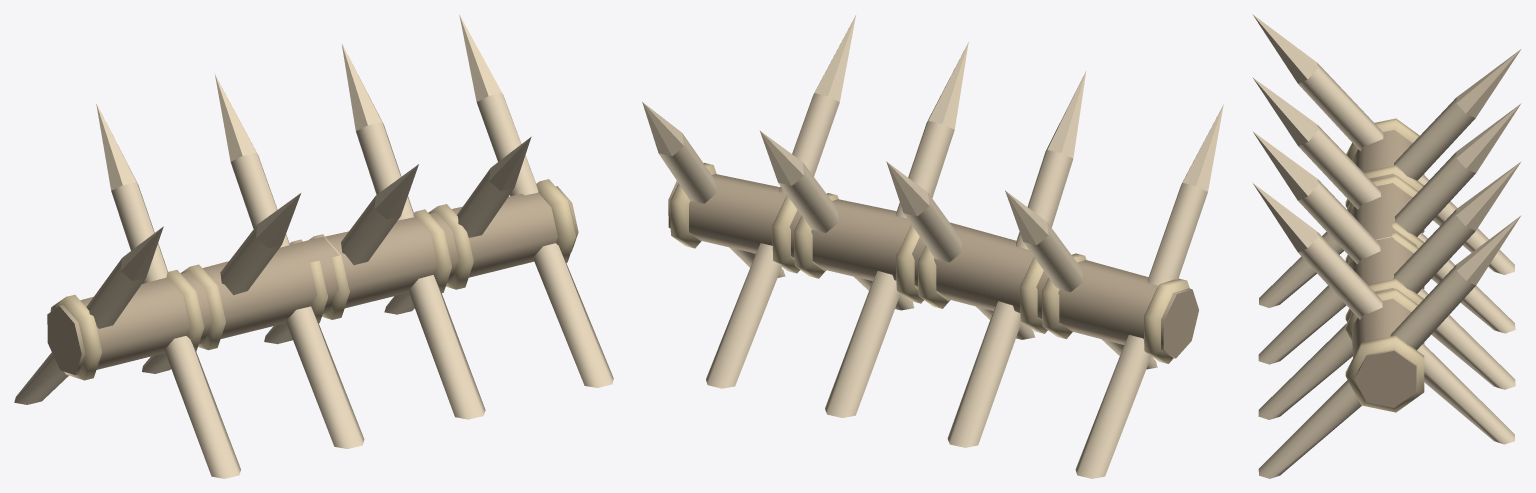
File: building.spikes.glb
3 renders of one model, left to right at view 1: azimuth 30°, elevation 25°; view 2: azimuth 150°, elevation 25°; view 3: azimuth 270°, elevation 25°, orthographic. The views are drawn at different scales.
Visible parts, largest first — view 1: Paint, PaintDark, Rope; view 2: Paint, PaintDark, Rope; view 3: Paint, PaintDark, Rope.
Part boxes in pixels (x1=…): Paint: x1=14, y1=15, x2=613, y2=478; PaintDark: x1=47, y1=186, x2=578, y2=375; Rope: x1=50, y1=179, x2=575, y2=380; Paint: x1=642, y1=14, x2=1223, y2=478; PaintDark: x1=668, y1=174, x2=1198, y2=358; Rope: x1=670, y1=163, x2=1189, y2=363; Paint: x1=1252, y1=14, x2=1521, y2=478; PaintDark: x1=1348, y1=130, x2=1416, y2=407; Rope: x1=1345, y1=118, x2=1424, y2=412.
Size of the model in its own units: 0.9423 by 0.49 by 0.47.
